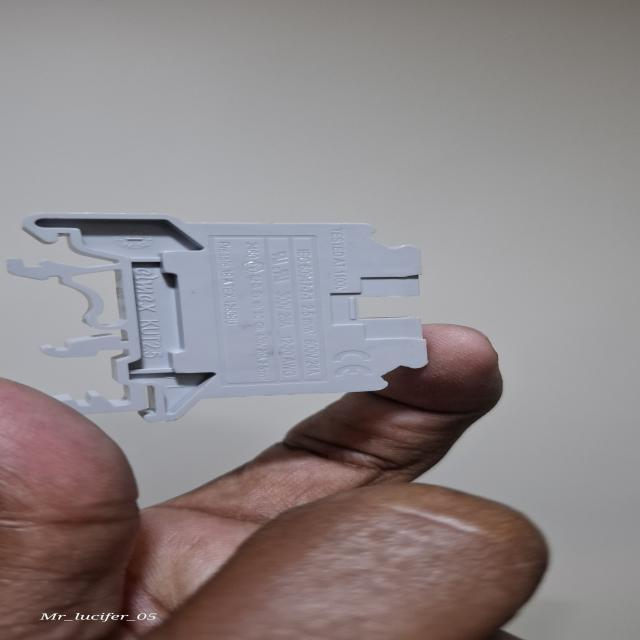Inverted: (4, 212, 428, 419)
